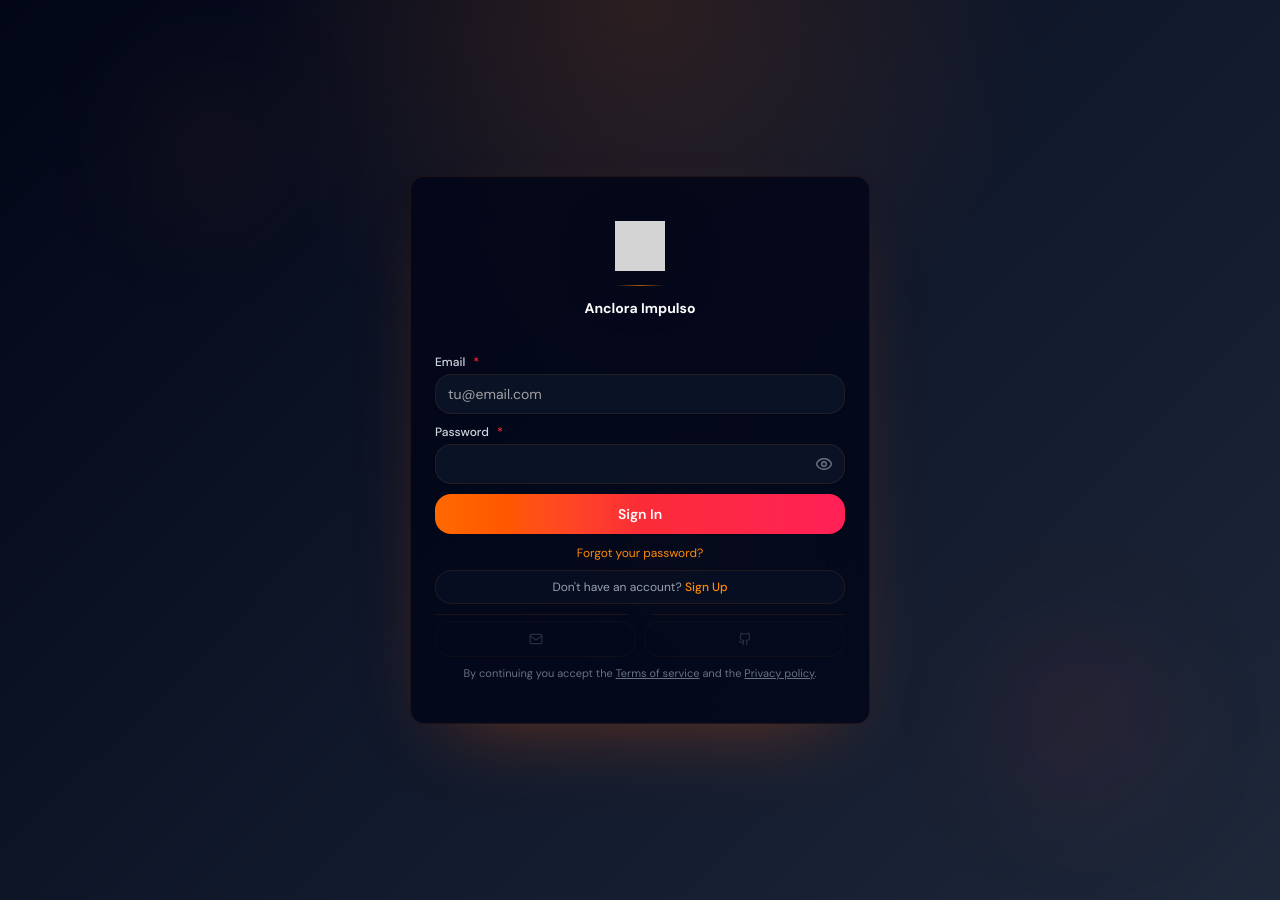
Test case: LoginPage › should handle login error
In the field labelled "Email *": (640, 394) [435,374,845,414], type "test@example.com"
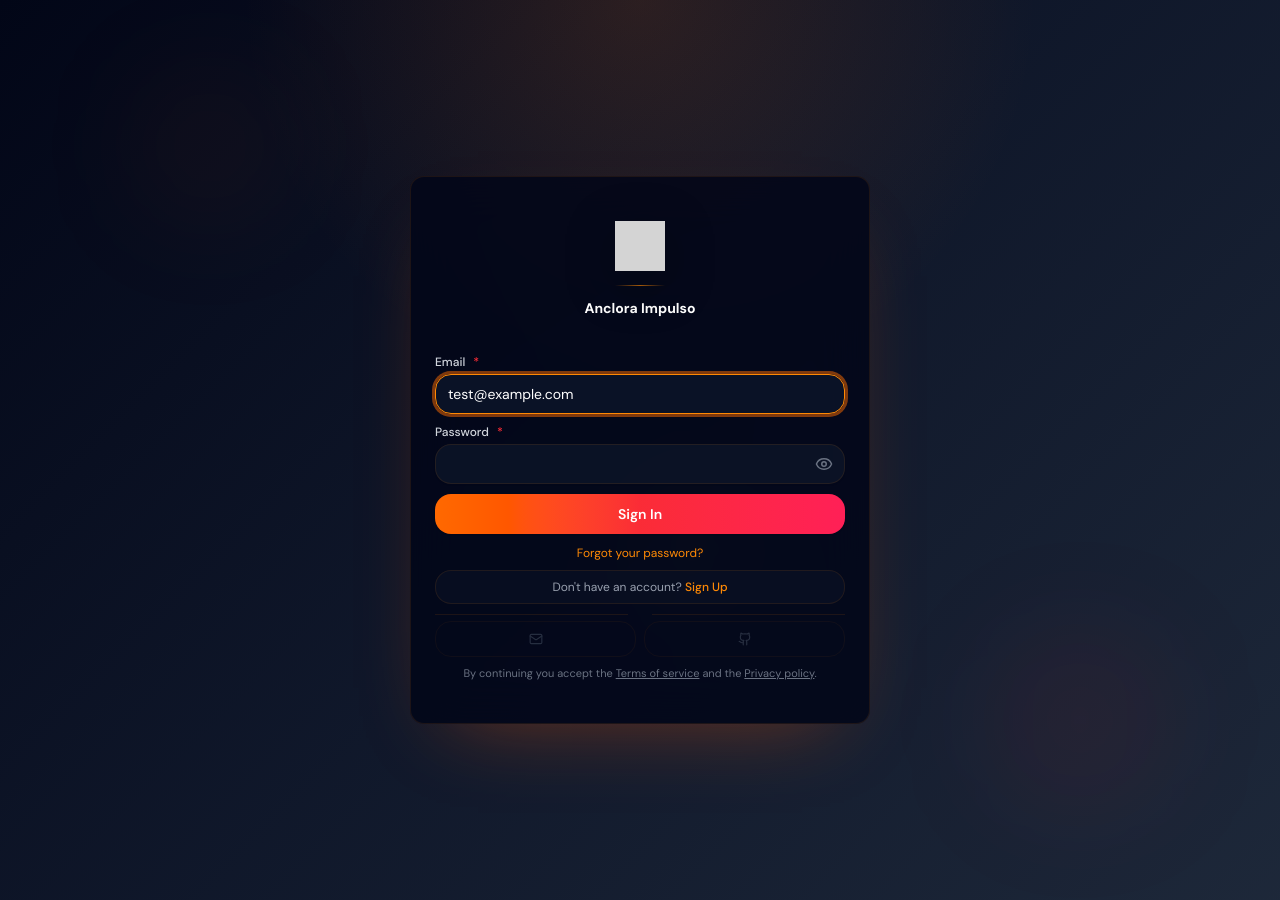
In the password field labelled "Password *": (640, 464) [435,444,845,484], type "wrong-password"
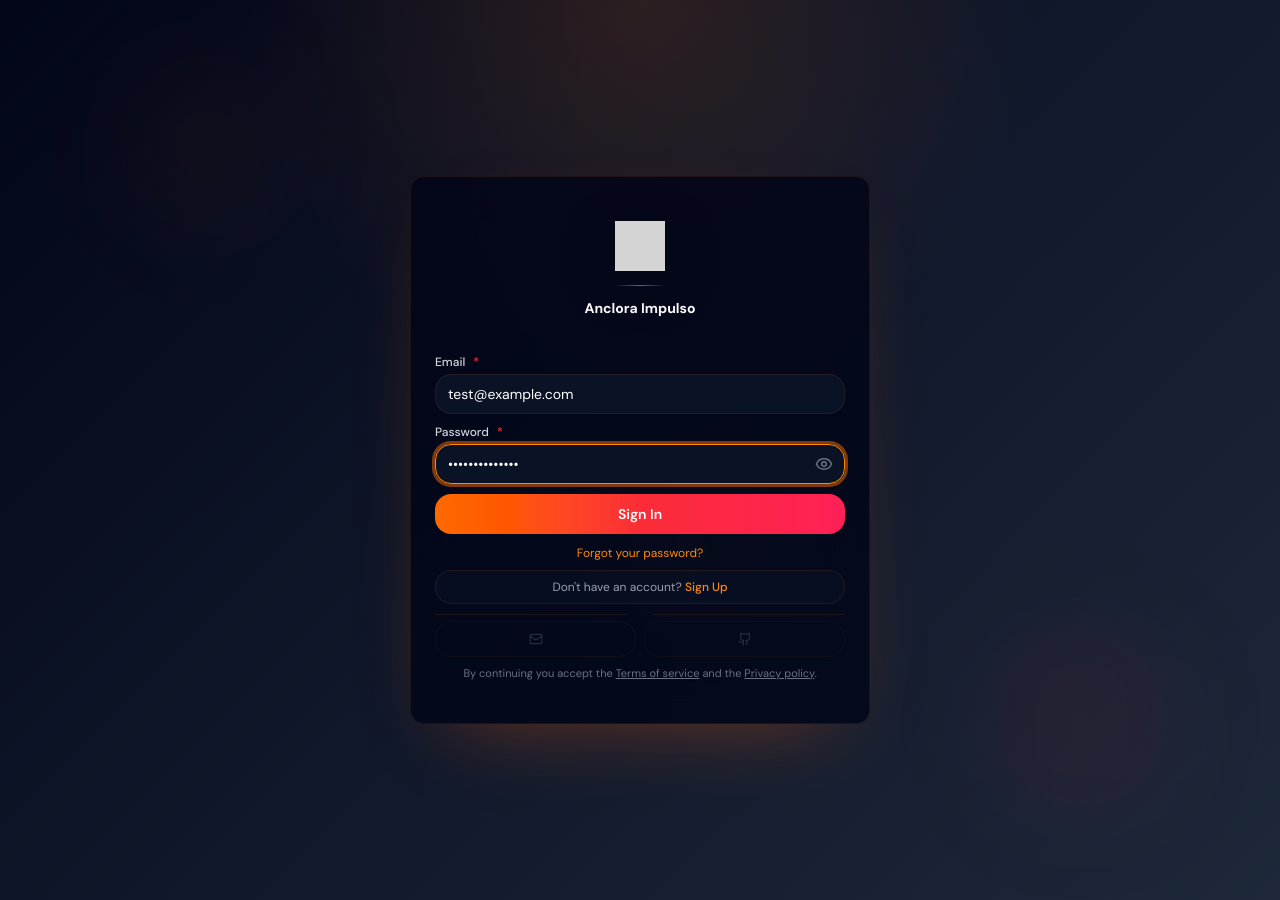
Click the button "Sign In": (640, 514) [435,494,845,534]
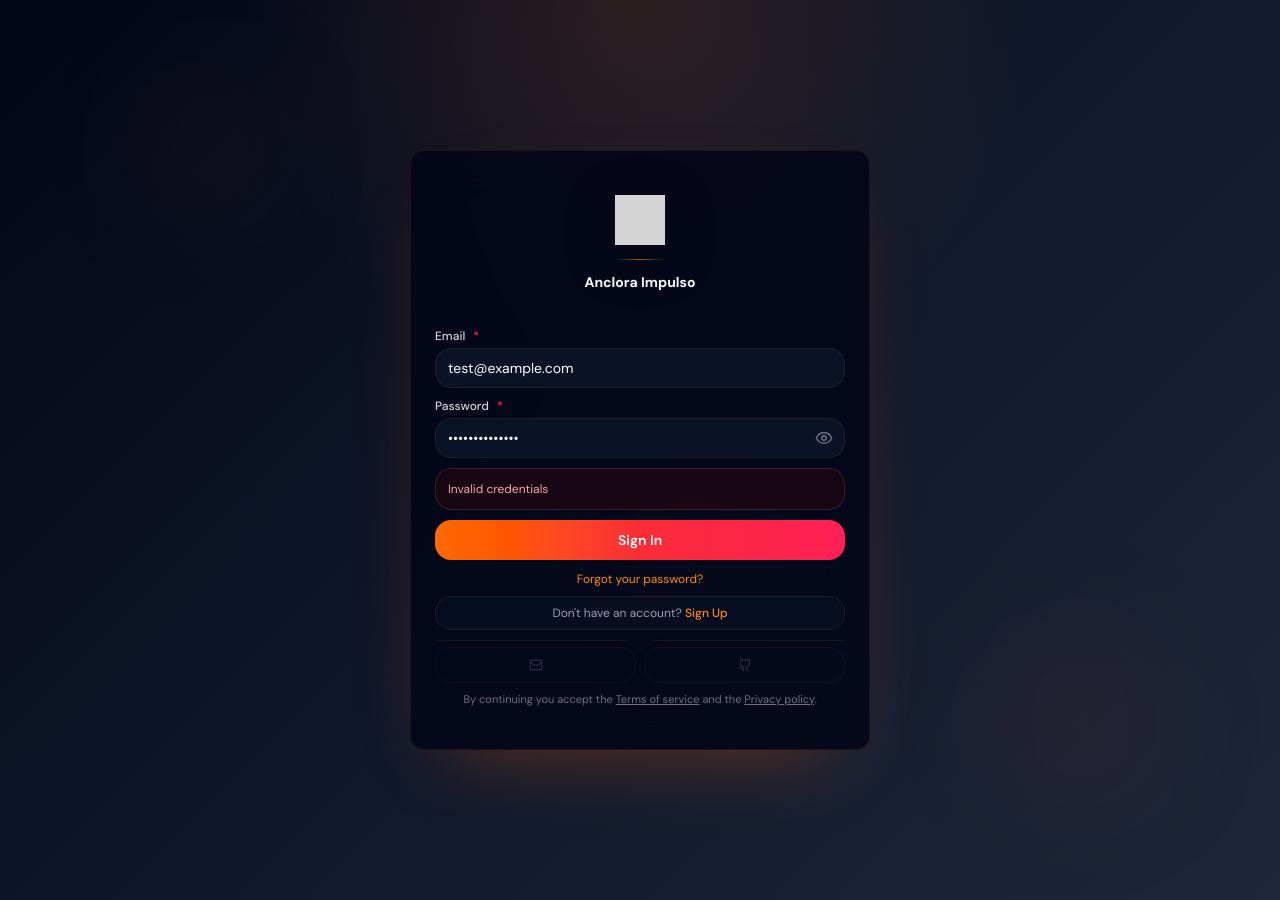
Now the text "Invalid credentials" is shown, box [435,468,845,510]
